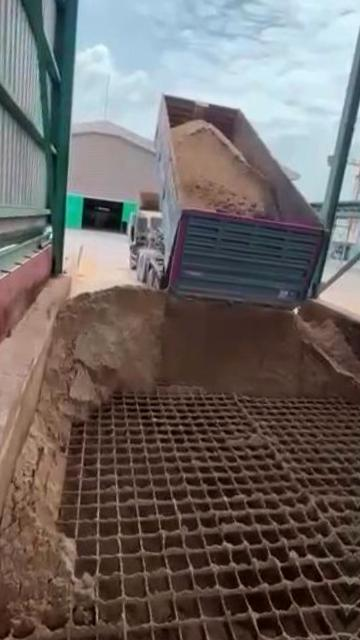sand: (0, 288, 360, 636), (172, 120, 279, 219), (301, 319, 360, 388)
